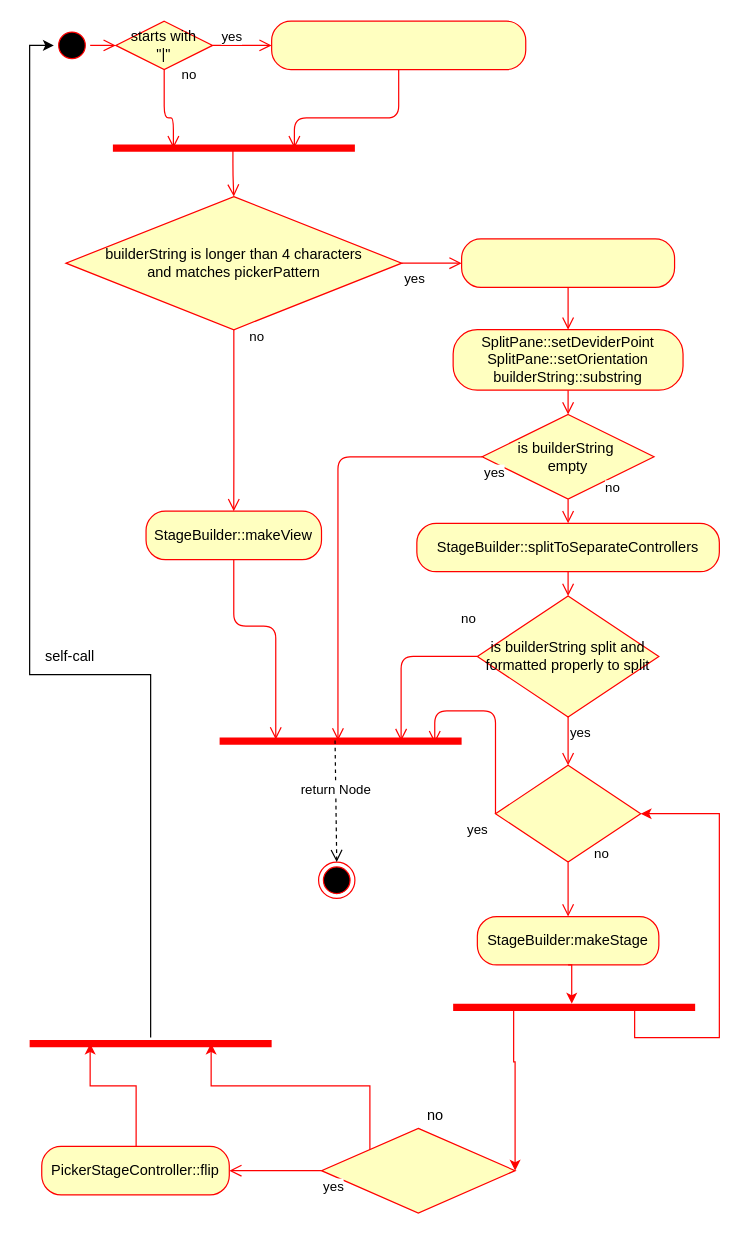
The diagram is 750 pixels wide and 1234 high, and some of its shapes have lost their labels. The centre of each missing label's shape, as x and y in pixels:
builderStings index 1 is empty: the point at 417,1170
is done for both subControllers: the point at 567,813
PickerStageController::split: the point at 567,262
String::subString PickerStageController::flipSplitPane: the point at 398,45
